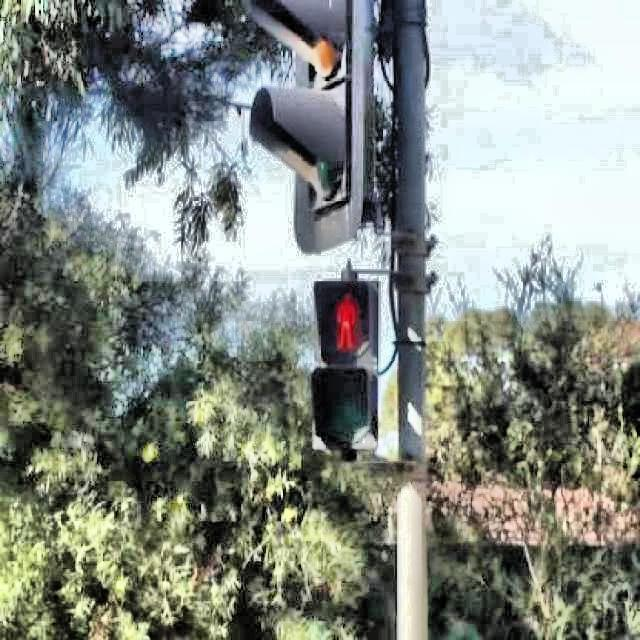semaforo pedestre: (277, 260, 415, 508)
